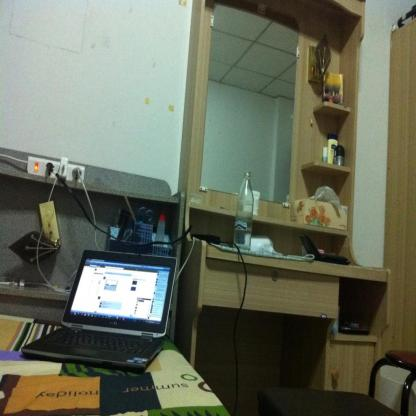board: (37, 245, 180, 374), (234, 170, 252, 253), (138, 206, 154, 222), (328, 134, 337, 160), (336, 145, 344, 167), (322, 146, 327, 164)
